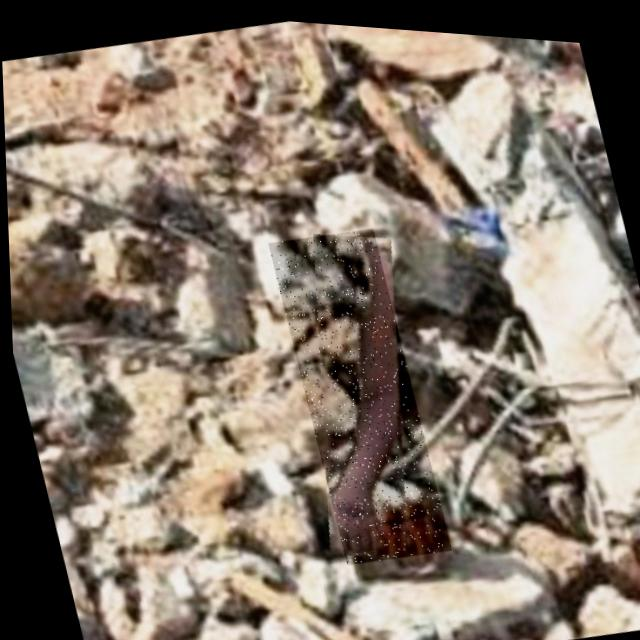Person in Rubble: (265, 216, 448, 565)
